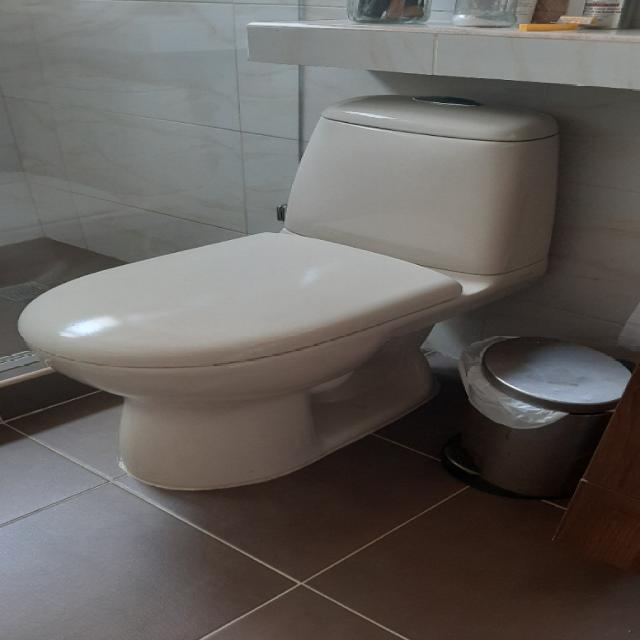toilet: (17, 94, 560, 492)
